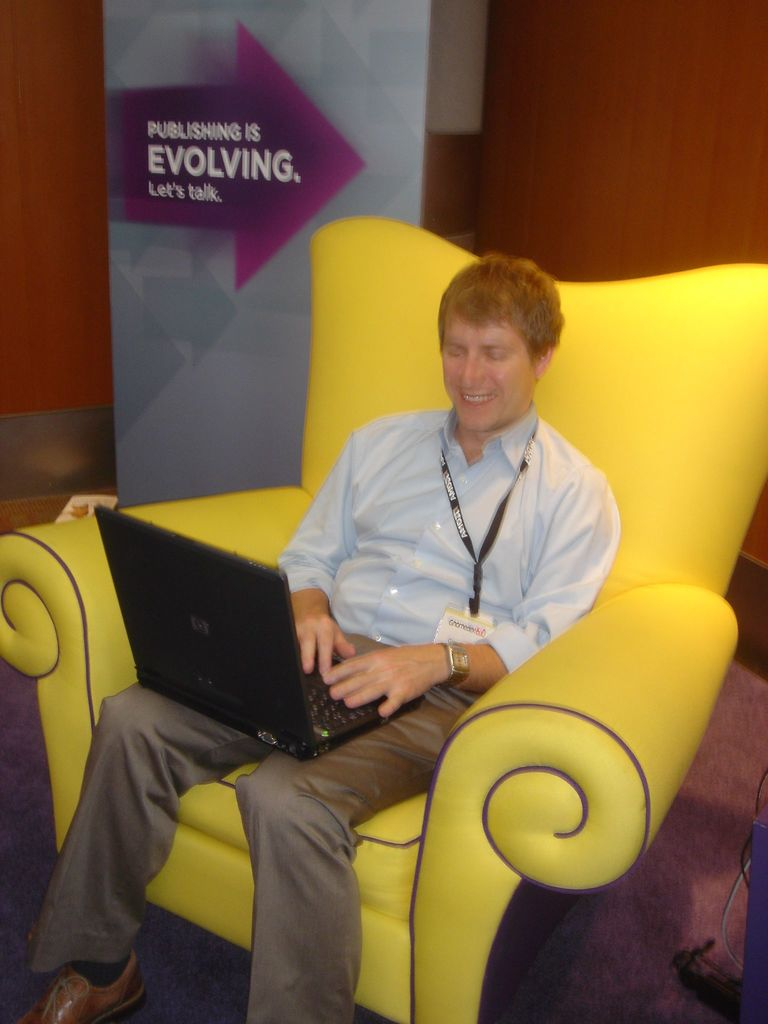Couch: (0, 214, 767, 1023)
